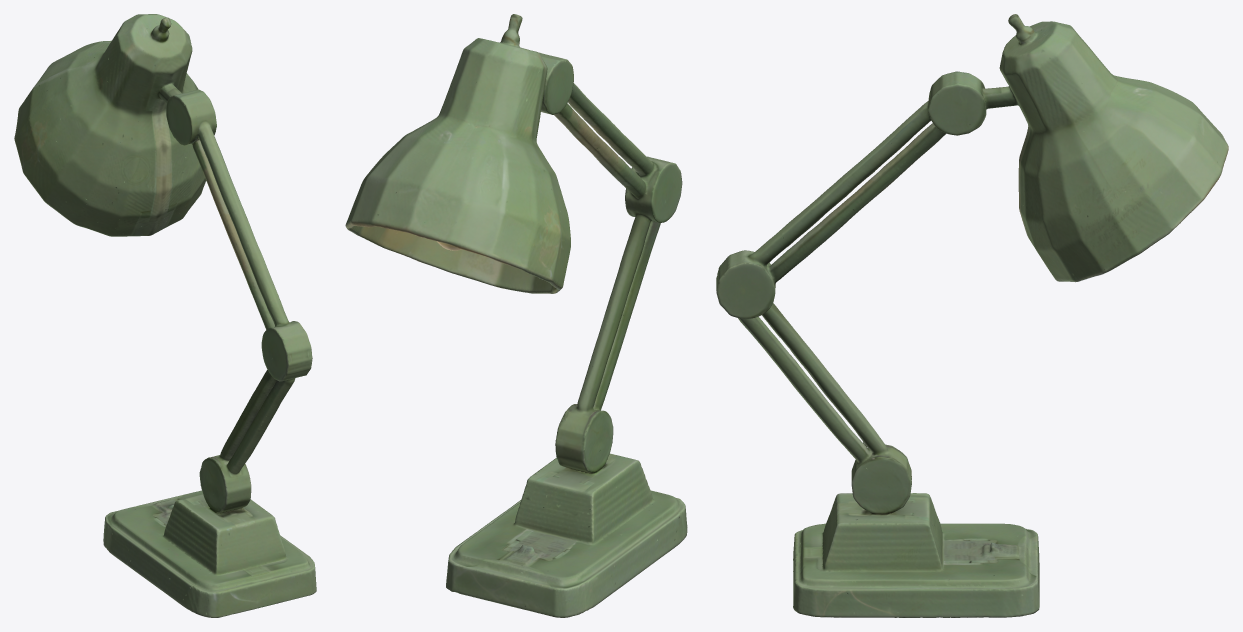
The model's file is Meshy_AI_lampara_3d_0317200120_texture.glb.
3 renders of one model, left to right at view 1: azimuth 30°, elevation 25°; view 2: azimuth 150°, elevation 25°; view 3: azimuth 270°, elevation 25°, orthographic. The views are drawn at different scales.
Bounding box in the file's own units: 0.7098 × 2 × 1.63.
1 material, 1 textured.
